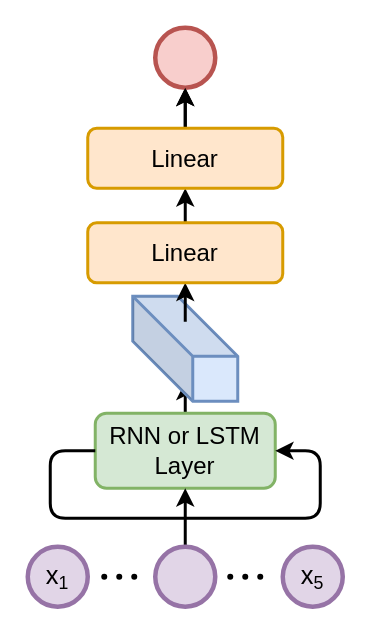
This 371x635 diagram has some shape labels left out. The shapes that lost their labels are listed below. From the top down, each one's centre as x and y in pixels, then its label:
(x=184, y=57): y t
(x=184, y=348): h t
(x=184, y=576): x t
